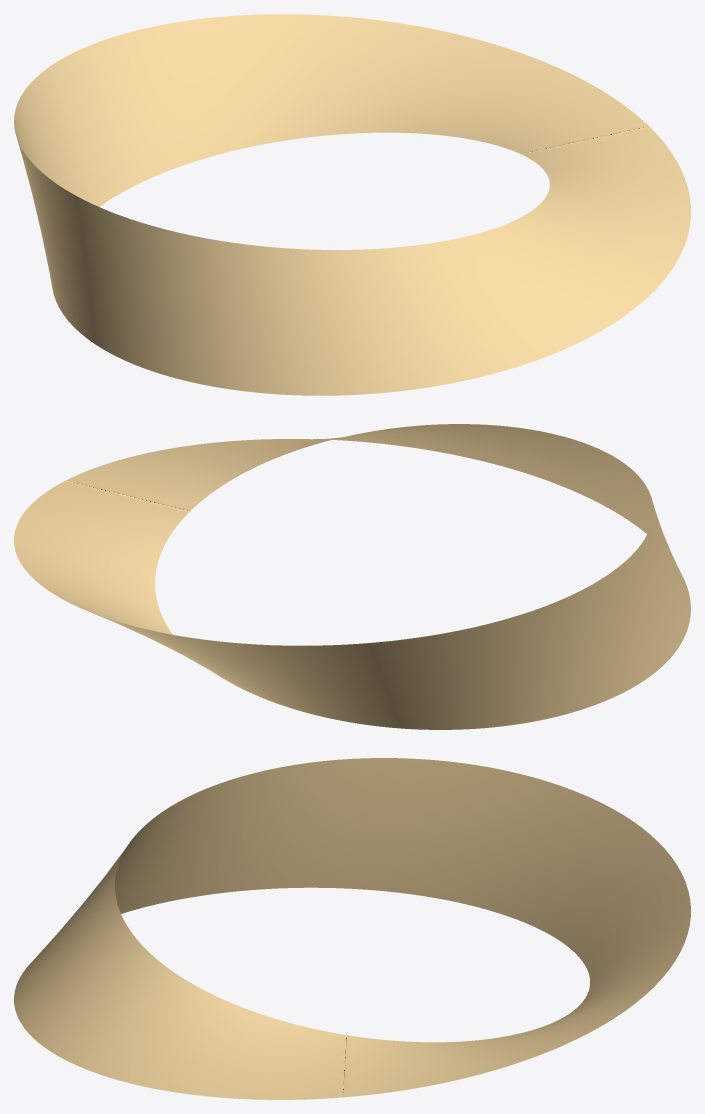
Rendered from example.gltf.
The picture shows the model from 3 angles, top to bottom: view 1: azimuth 30°, elevation 25°; view 2: azimuth 150°, elevation 25°; view 3: azimuth 270°, elevation 25°; orthographic projection. The views are drawn at different scales.
Parts seen in each view (by area): view 1: mobius_strip; view 2: mobius_strip; view 3: mobius_strip.
Boxes of the visible parts, <box> form: mobius_strip: <box>14,14,690,395</box>; mobius_strip: <box>14,424,690,729</box>; mobius_strip: <box>14,758,690,1099</box>.
Bounding box in the file's own units: 2.26 × 0.5 × 2.36.
